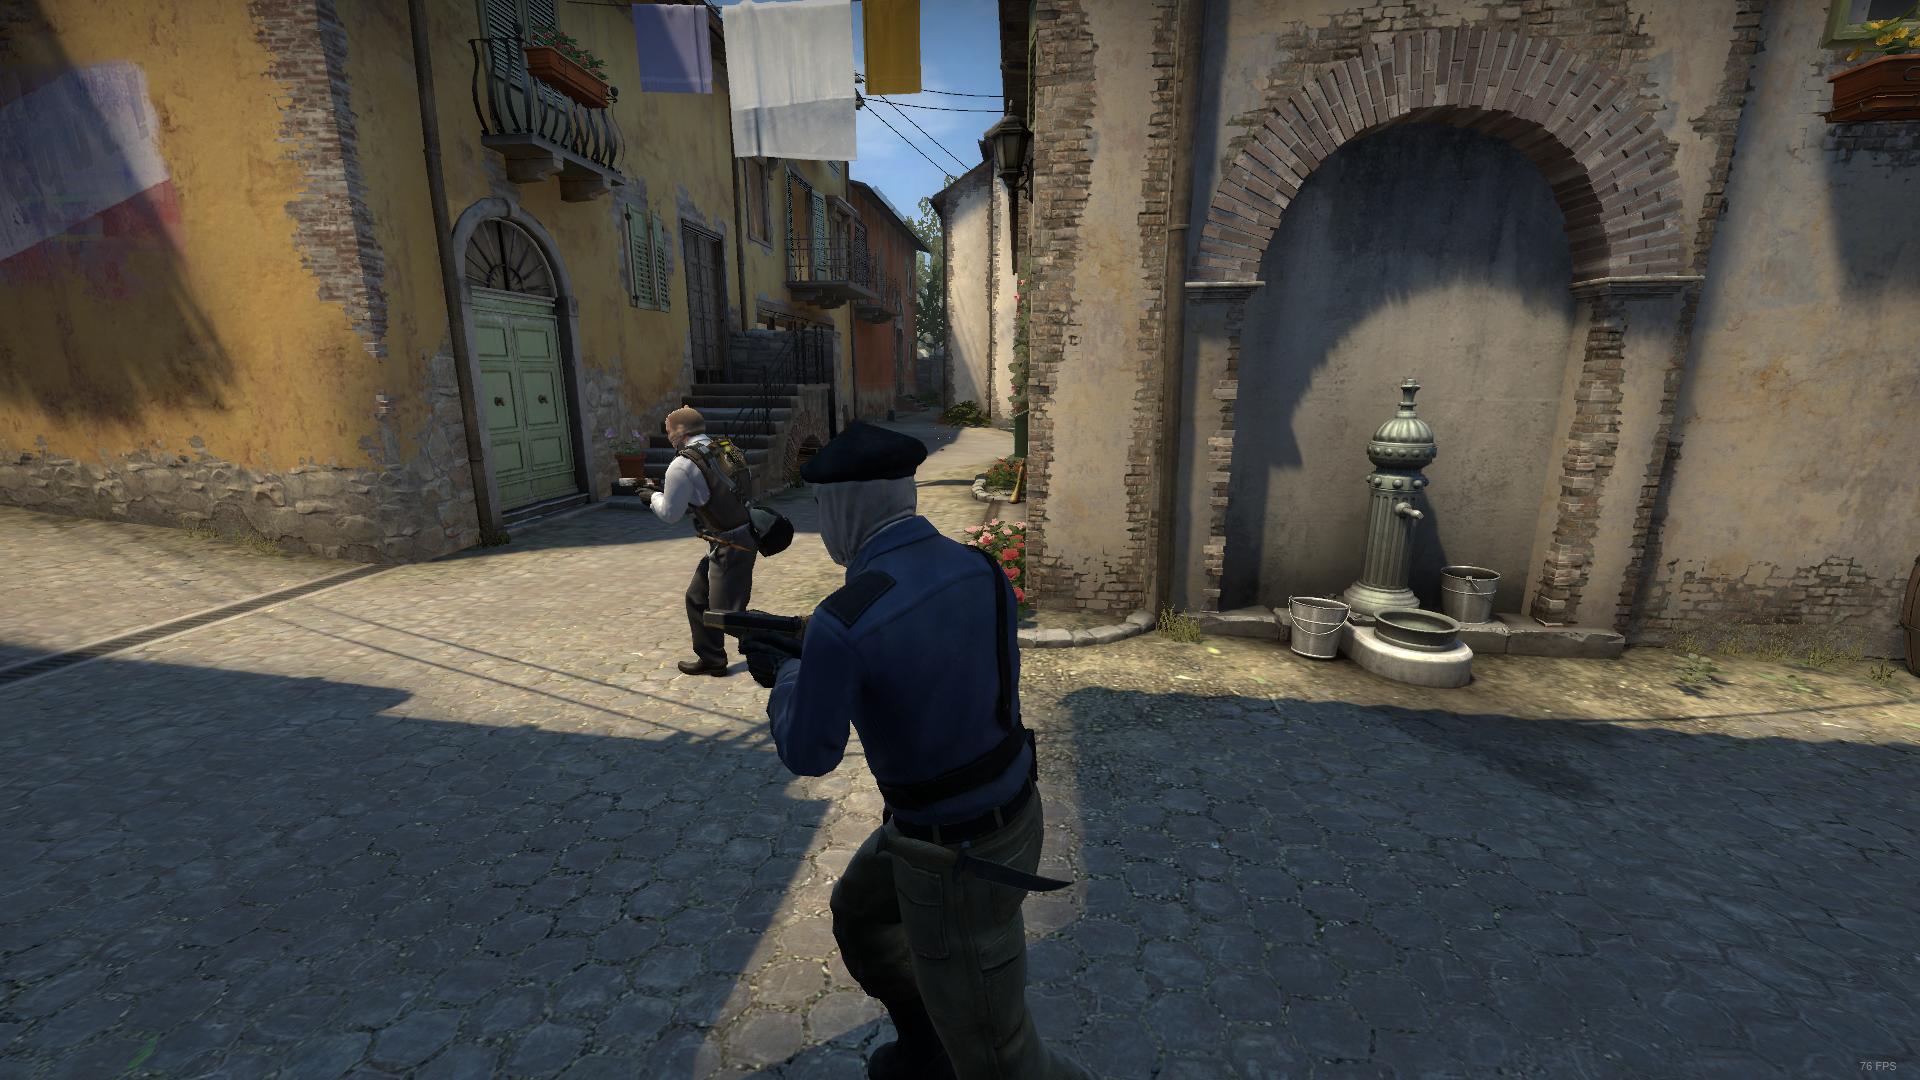t: (736, 419, 1121, 1080)
